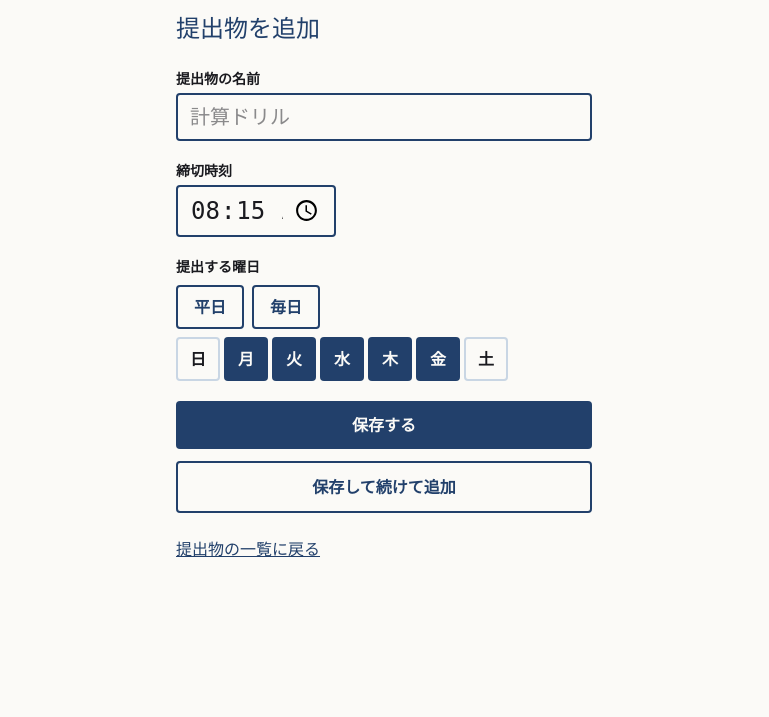
Test: 保存 › 曜日を変えて保存できる
The width and height of the screenshot is (769, 717).
Step 1. Type "日記" into the field labelled "提出物の名前" → [384, 117], box [176, 93, 592, 141]
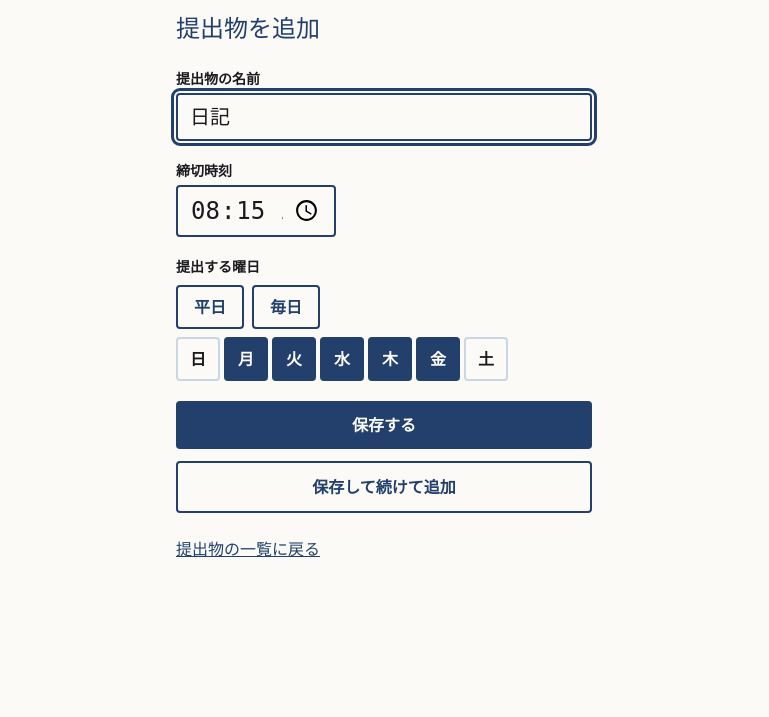
Step 2. Click the button "火" → [294, 359], box [272, 337, 316, 381]
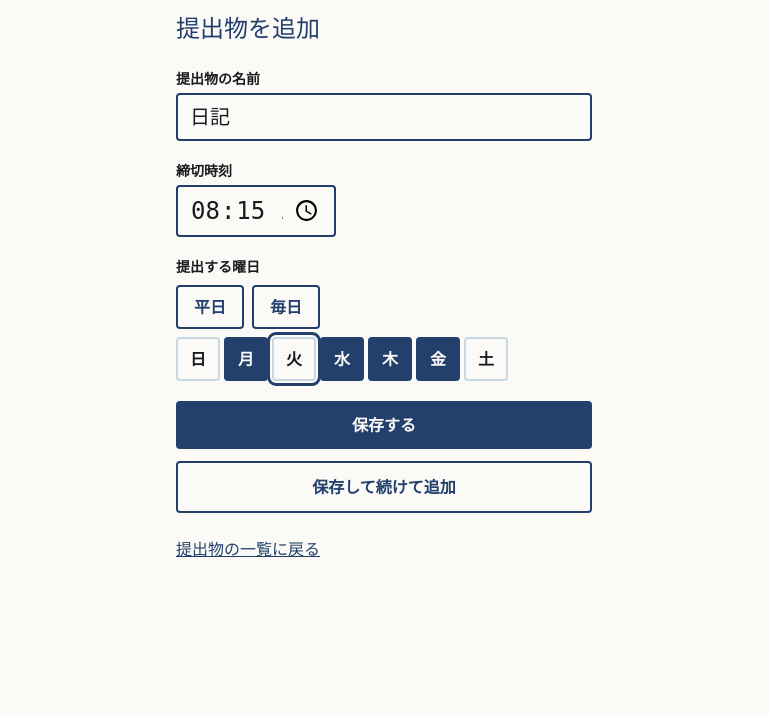
Step 3. Click the button "水" → [342, 359], box [320, 337, 364, 381]
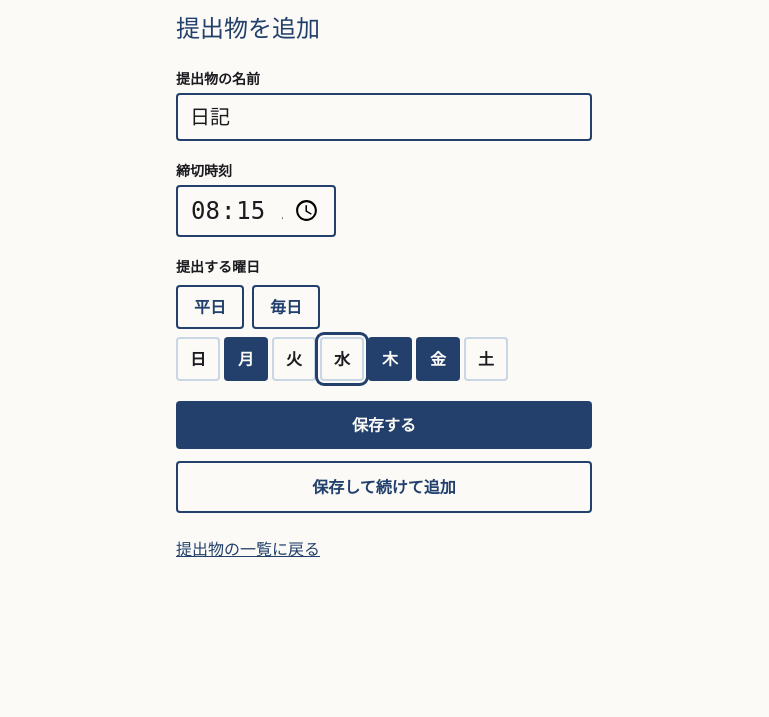
Step 4. Click the button "木" → [390, 359], box [368, 337, 412, 381]
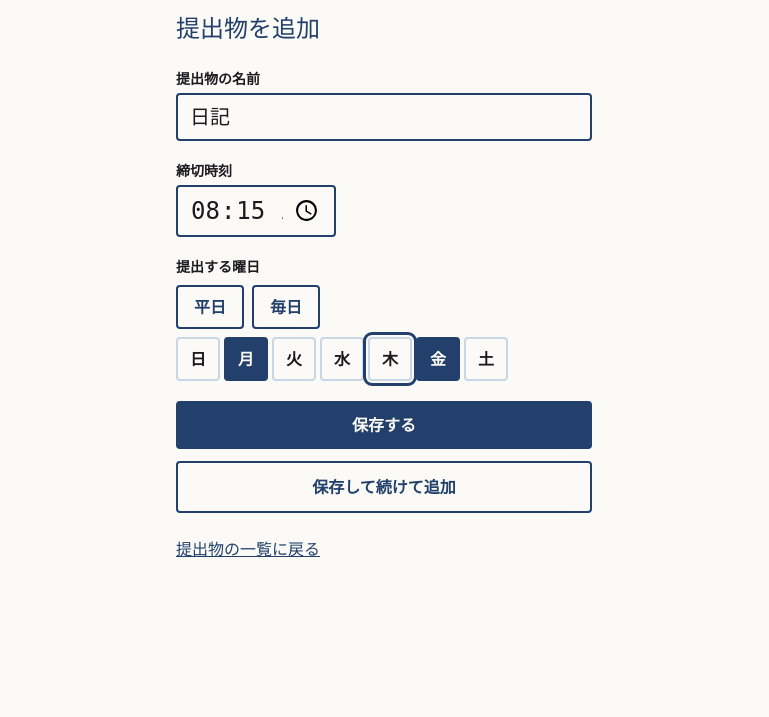
Step 5. Click the button "金" → [438, 359], box [416, 337, 460, 381]
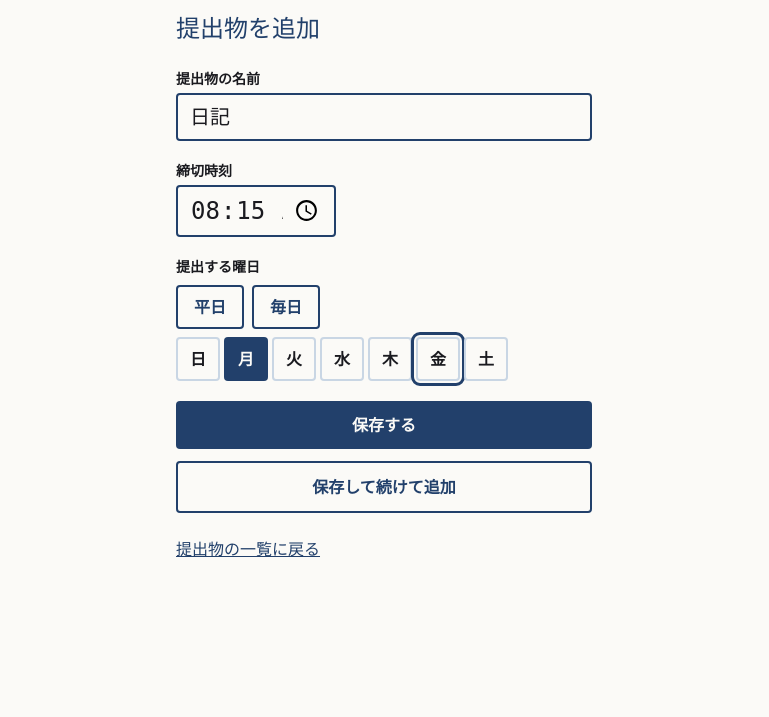
Step 6. Click the button "保存する" → [384, 425], box [176, 401, 592, 449]
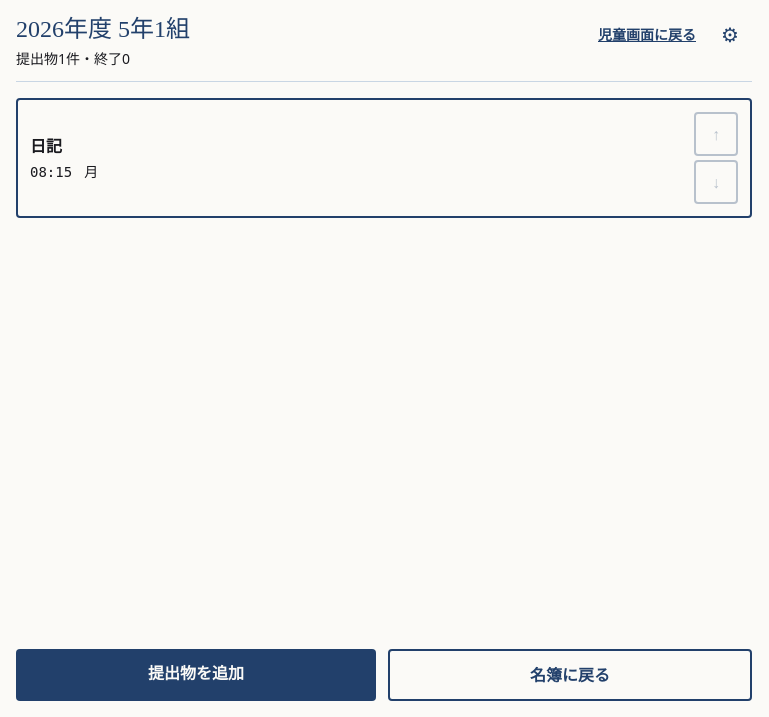
Expected: the text "提出物1件・終了0" is shown, [16, 49, 130, 68]
